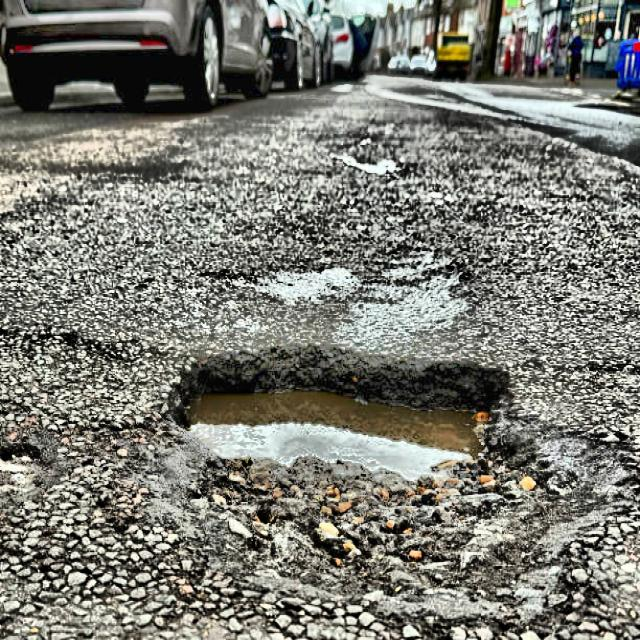pothole: (183, 350, 493, 460)
